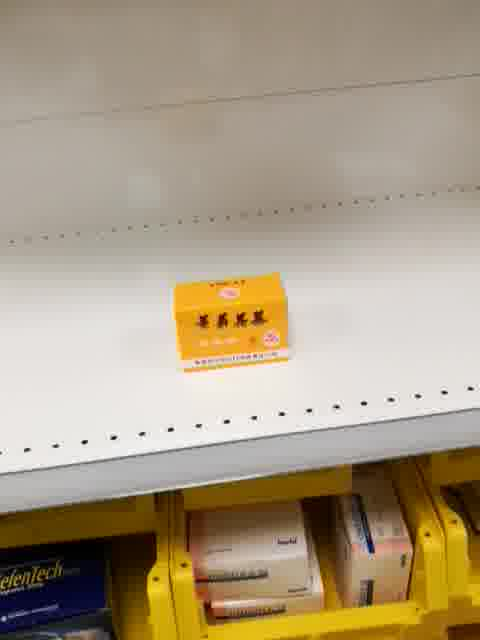jasminetea: (171, 268, 296, 375)
